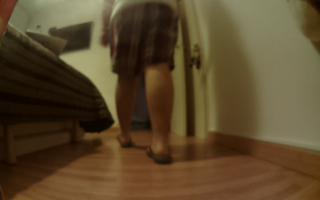person: (98, 1, 187, 165)
